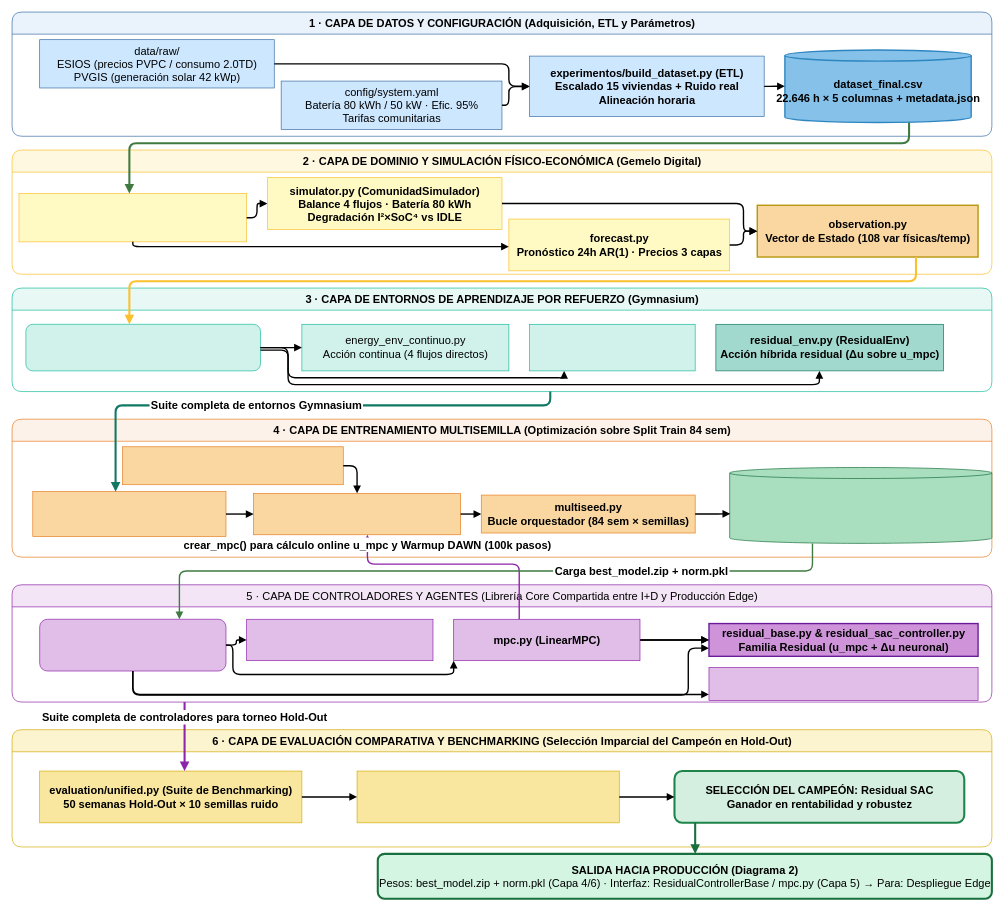
This 1005x911 diagram has some shape labels left out. The centre of each missing label's shape, as x and y in pixels:
"Análisis Estadístico Riguroso Intervalos IC95 · Test Wilcoxon p < 0.05" goes at point 487,796.
"base.py (BaseController) Interfaz Raíz Común solve(state, fc)" goes at point 132,645.
"Catálogo Universal de Modelos Checkpoints (.zip) + norm.pkl de cada familia" goes at point 860,505.
"continuous.py & discrete.py Controladores RL Puros (DQN·PPO·SAC)" goes at point 843,683.
"energy_env_base.py Clase Raíz · Episodios 168h · Recompensa" goes at point 142,347.
"energy_env_discreto.py Acción discreta (9 combinaciones)" goes at point 612,347.
"heuristic.py Reglas fijas expertas (Umbrales SoC)" goes at point 339,640.
"mains/* (Suite Generalista) DQN·PPO·SAC·DDPG·TD3·Residual" goes at point 357,514.
"registry.py / experimentos.yaml Hiperparámetros (base ⊕ override)" goes at point 232,465.
"scaffold_mains.py Armazón generador de scripts" goes at point 129,513.
"Separación Muestral 84 sem Train / 50 sem Hold-out" goes at point 132,217.
